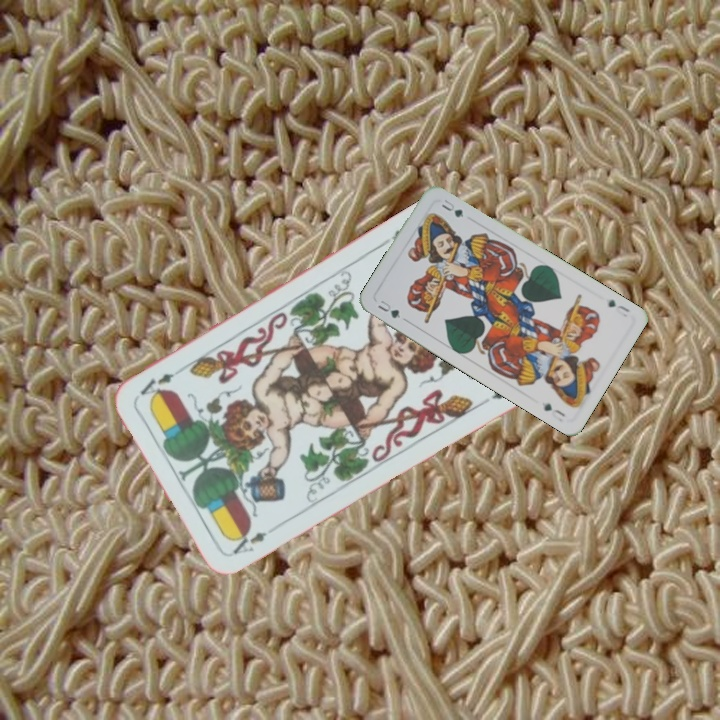EA: (228, 524, 269, 557)
GU: (374, 296, 403, 321), (604, 295, 633, 320)
